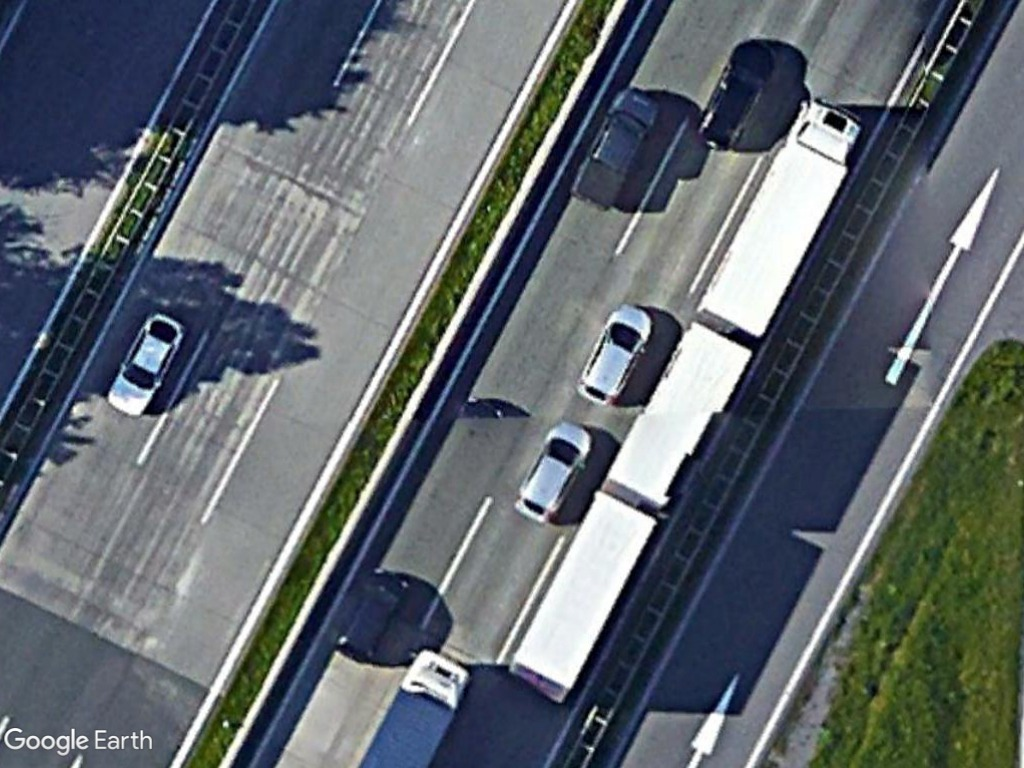car: (571, 81, 667, 214), (690, 37, 787, 159), (100, 306, 189, 423), (511, 416, 598, 528), (574, 300, 661, 411), (331, 562, 414, 667)
truck: (690, 99, 872, 346)
